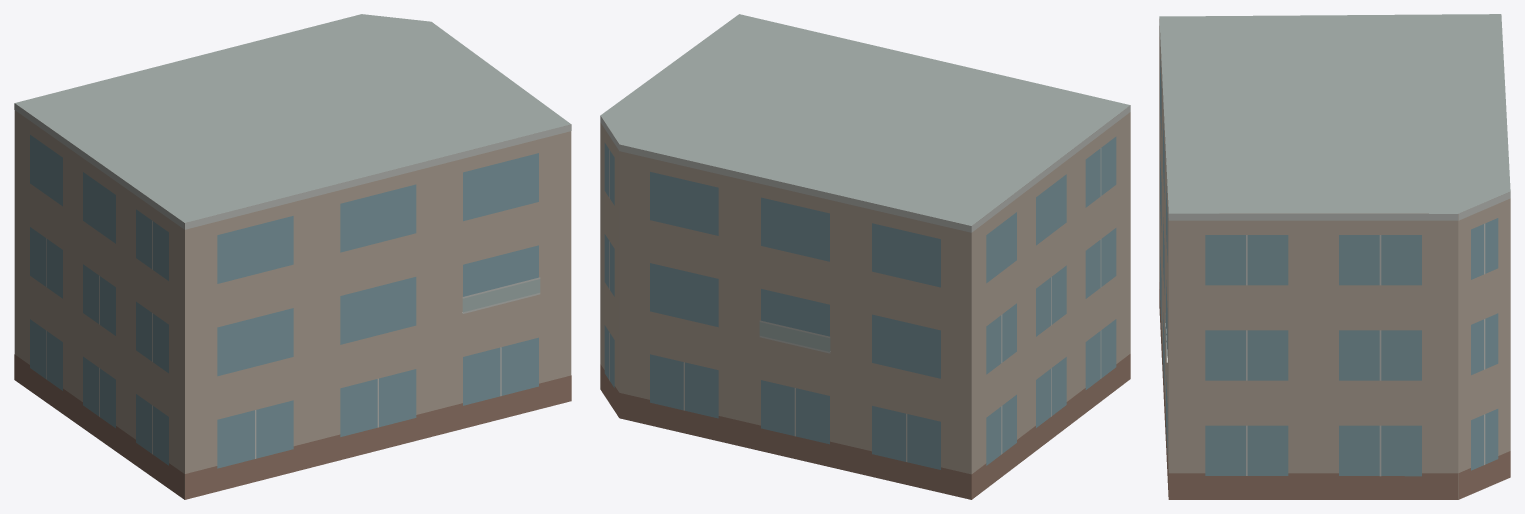
The model's file is survey-upis-32962580.glb.
The picture shows the model from 3 angles, left to right: view 1: azimuth 30°, elevation 25°; view 2: azimuth 150°, elevation 25°; view 3: azimuth 270°, elevation 25°; orthographic projection. The views are drawn at different scales.
Parts seen in each view (by area): view 1: survey-upis-32962580.tmp; view 2: survey-upis-32962580.tmp; view 3: survey-upis-32962580.tmp.
Part boxes in pixels (x1,y1,x2,y2): survey-upis-32962580.tmp: (14,14,571,499); survey-upis-32962580.tmp: (600,14,1130,499); survey-upis-32962580.tmp: (1159,14,1510,499).
Bounding box in the file's own units: 14.91 × 9.95 × 11.08.
